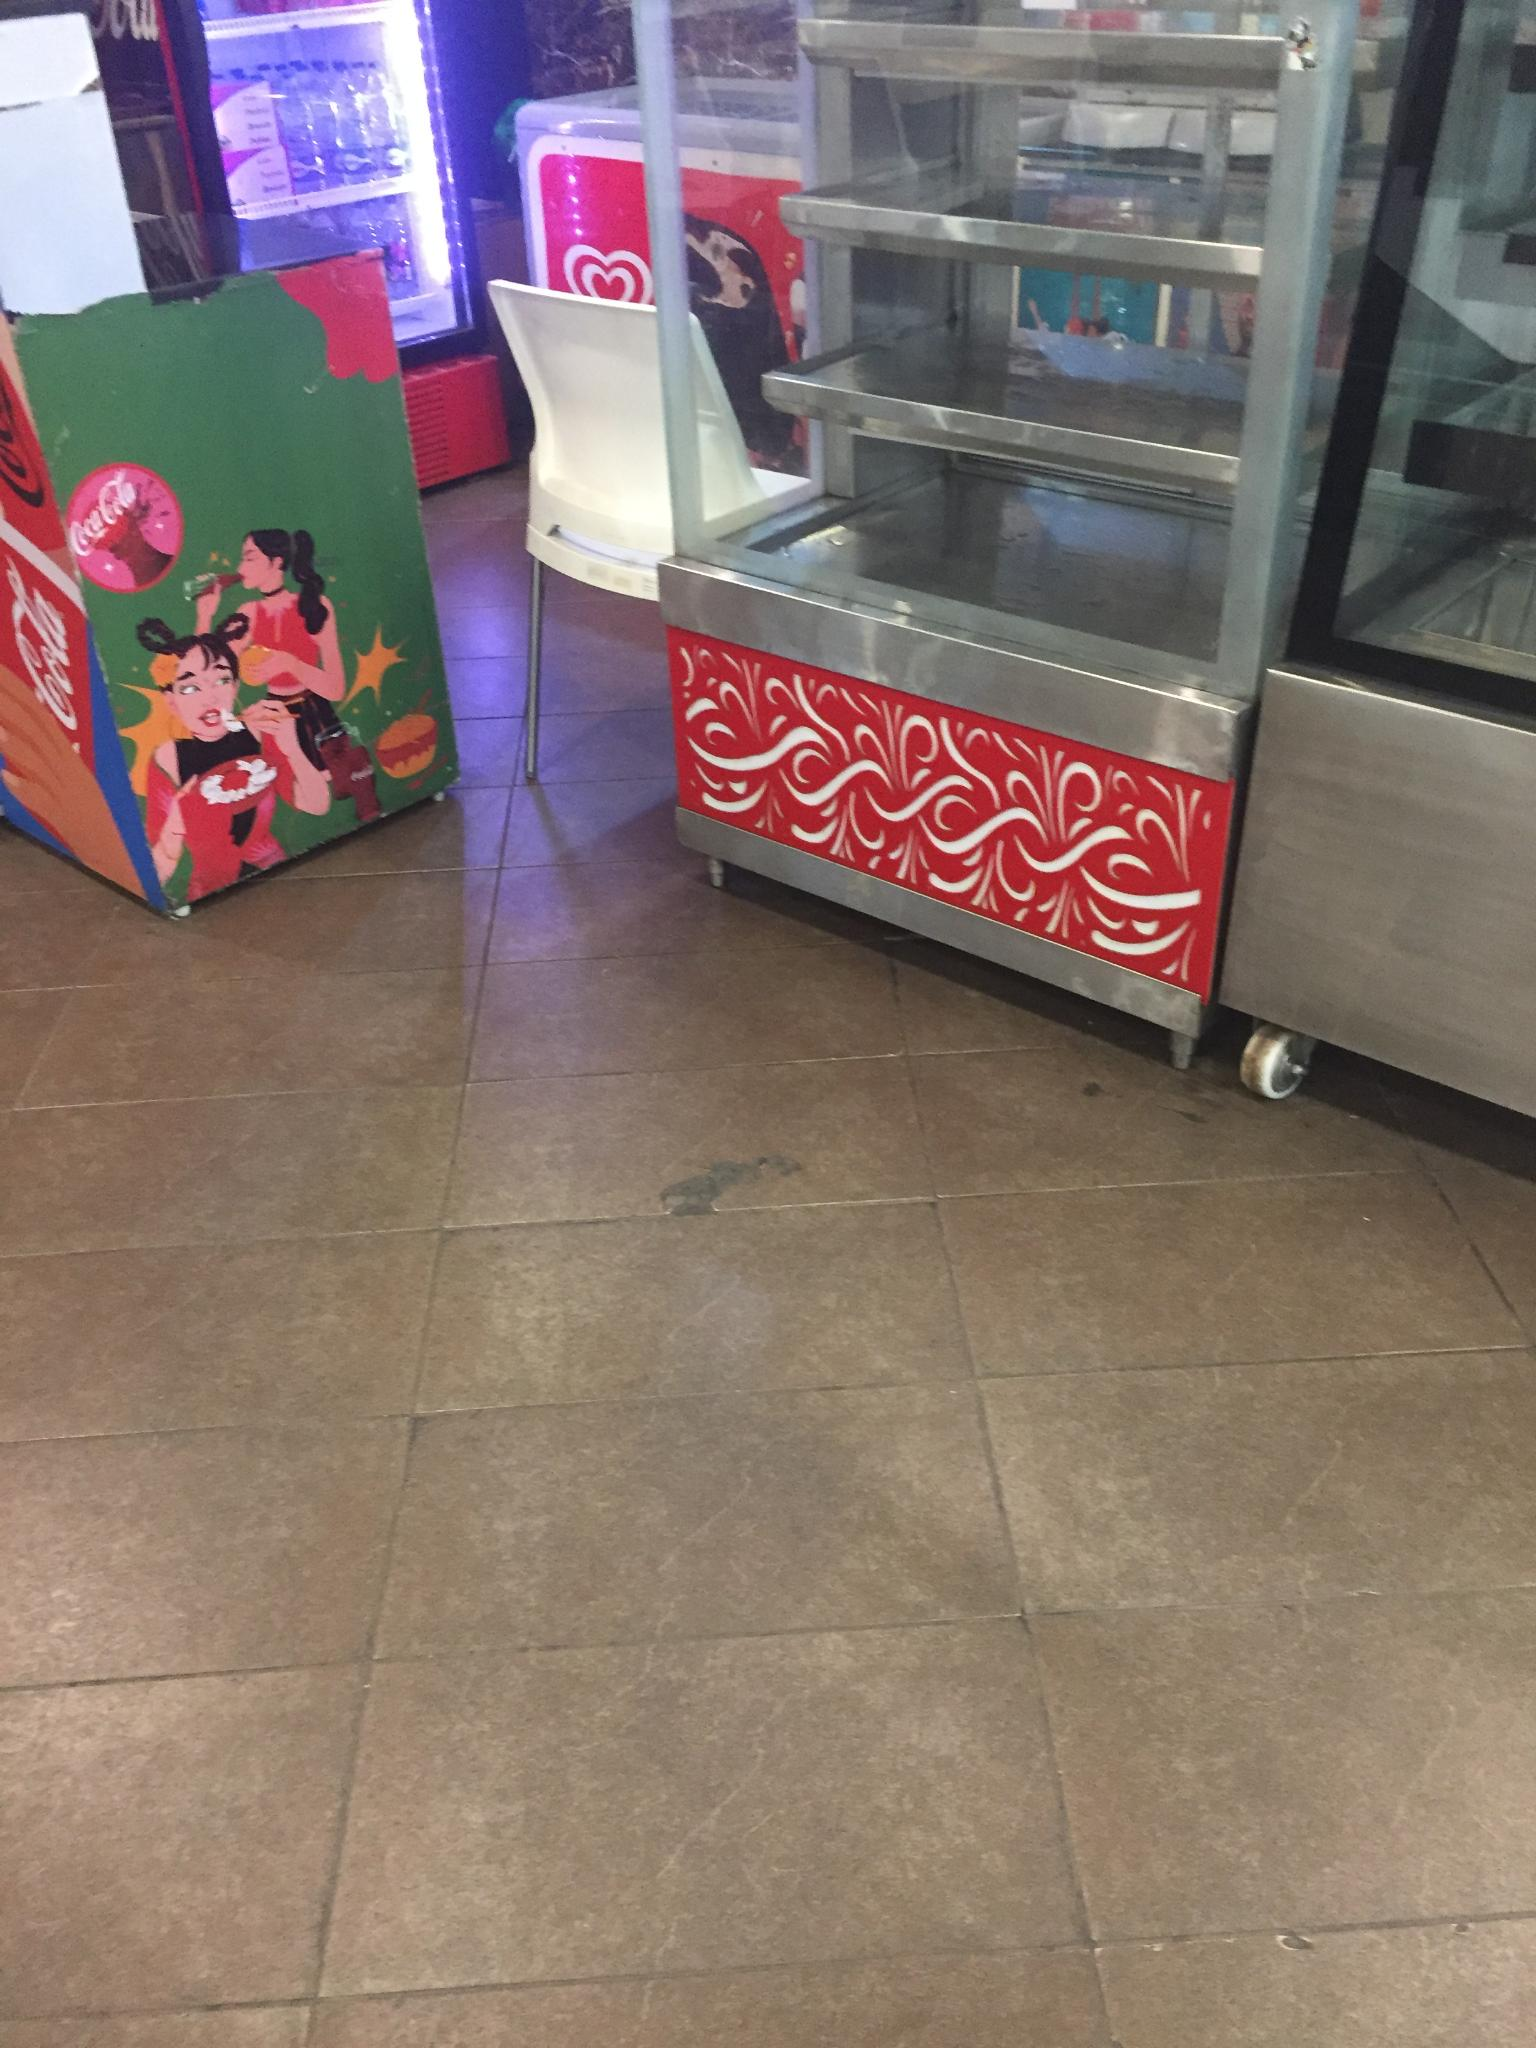chair: (484, 276, 815, 782)
